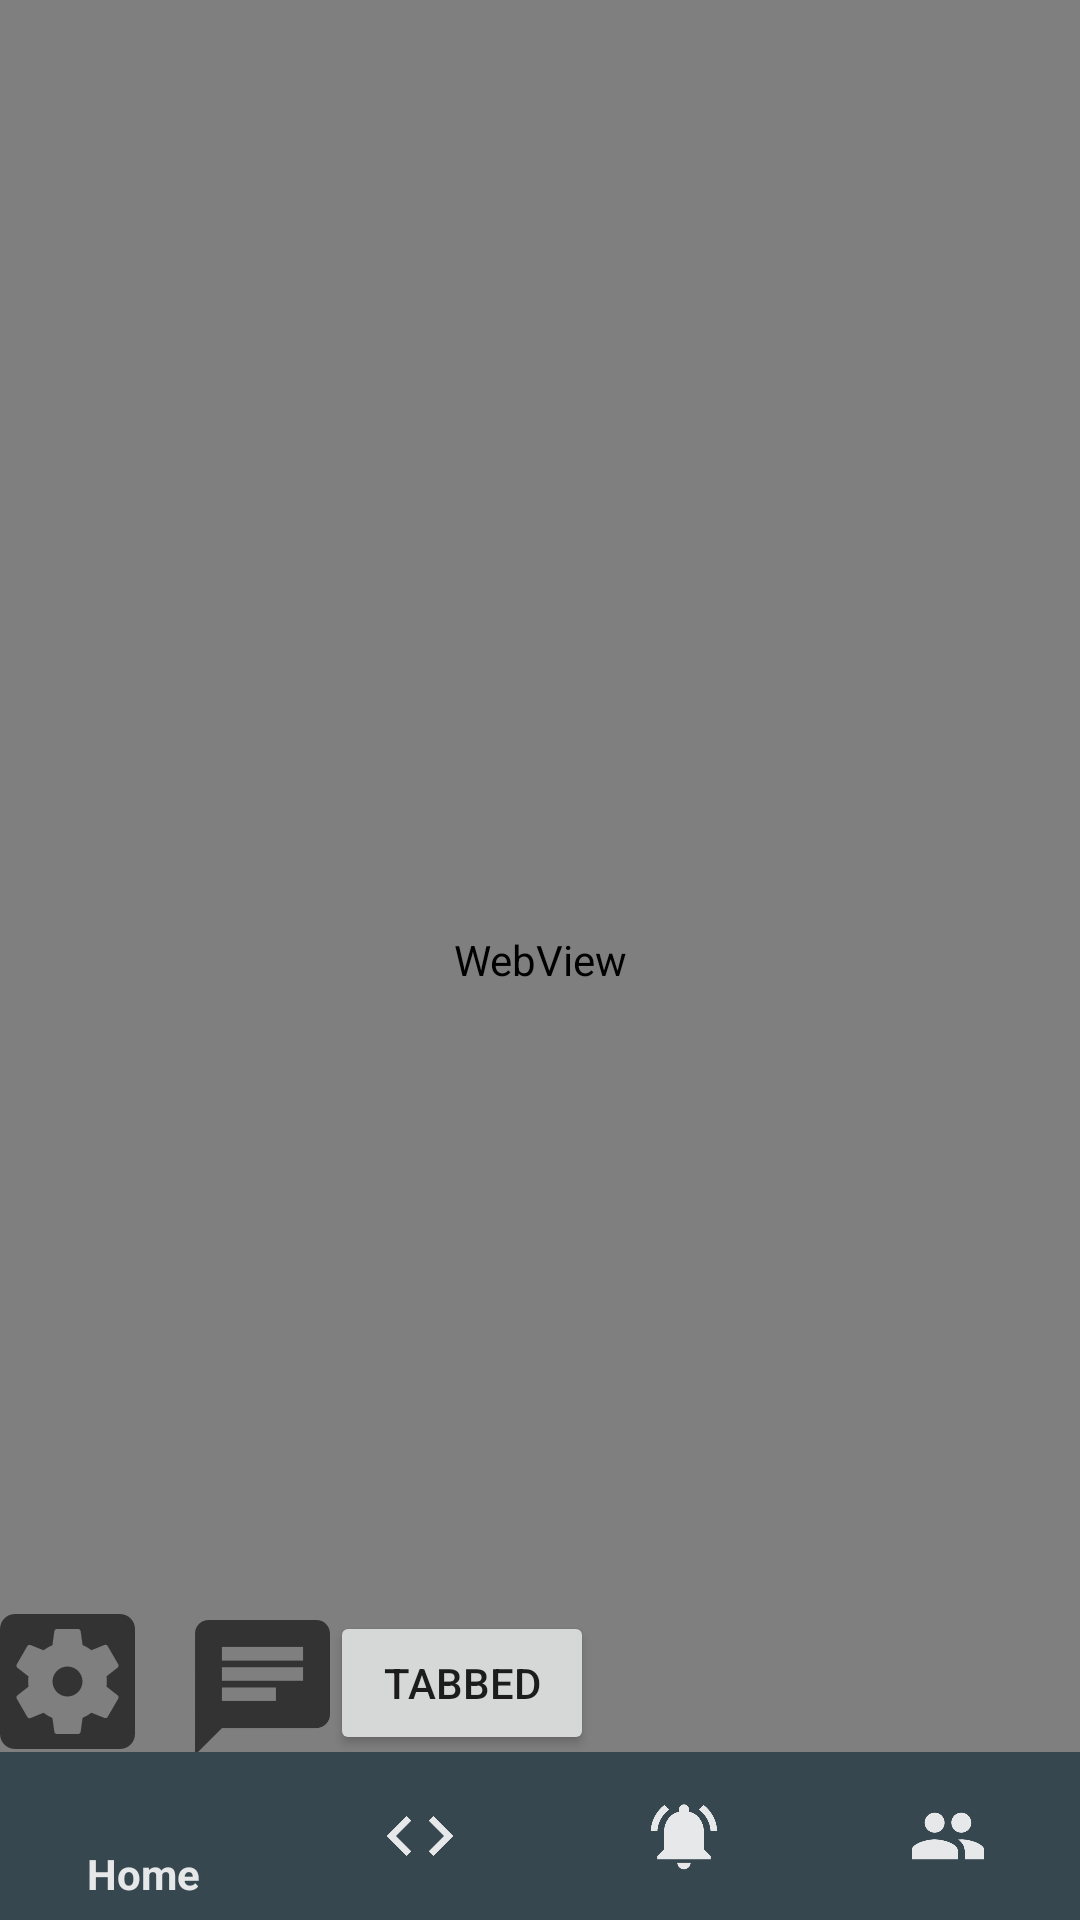

Icons on this 1080px x 1920px Android screen, each with the point to tap as [x,y]:
setting: [67,1681]
